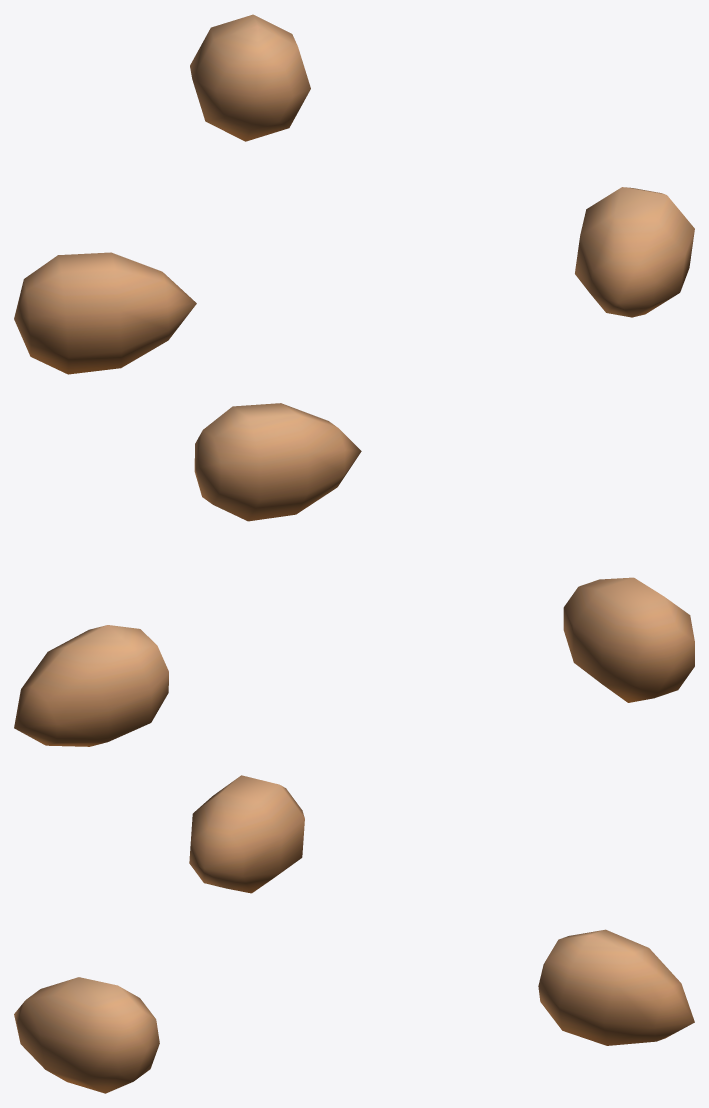
Rendered from eggplant_seed.glb.
The picture shows the model from 3 angles, top to bottom: view 1: azimuth 30°, elevation 25°; view 2: azimuth 150°, elevation 25°; view 3: azimuth 270°, elevation 25°; orthographic projection. The views are drawn at different scales.
Parts seen in each view (by area): view 1: SM_Eggplant_Seed2; view 2: SM_Eggplant_Seed2; view 3: SM_Eggplant_Seed2.
Boxes of the visible parts, box(x1,y1,x2,y2) form: SM_Eggplant_Seed2: box(14, 14, 694, 374); SM_Eggplant_Seed2: box(14, 403, 694, 746); SM_Eggplant_Seed2: box(14, 775, 694, 1093).
Size of the model in its own units: 0.2148 by 0.0411 by 0.2347.
1 material, 1 textured.
